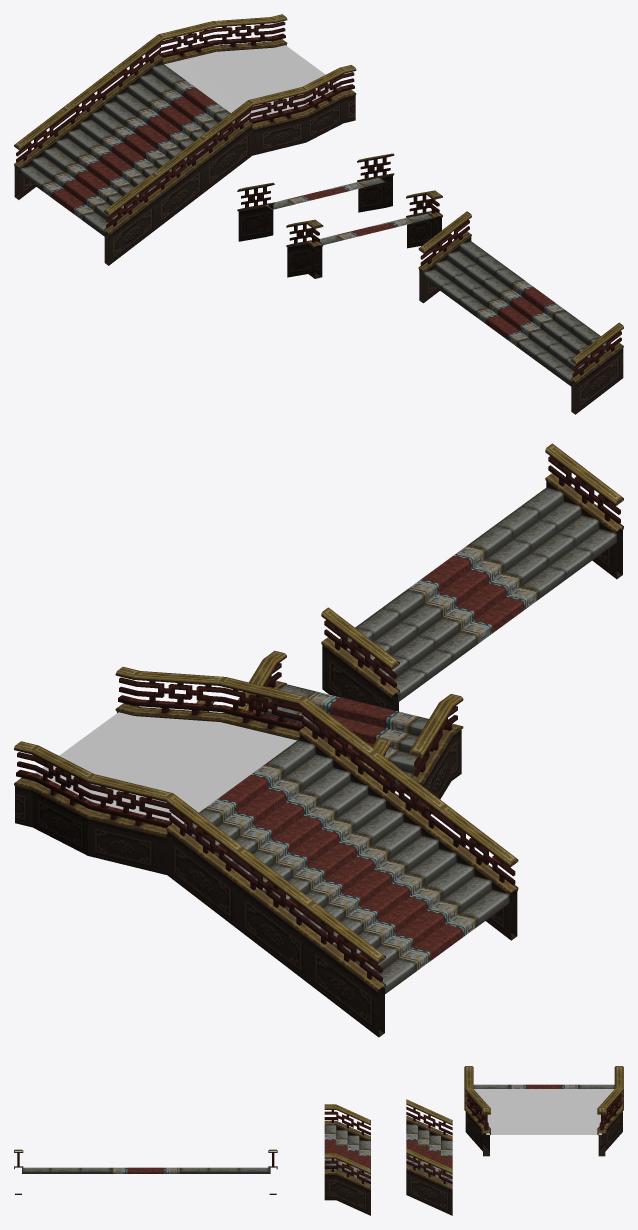
Rendered from EnvMdrMD_Desert_Castle_A_Stairs_A_End.FBX.
3 views of the same model, one above another, from view 1: azimuth 30°, elevation 25°; view 2: azimuth 150°, elevation 25°; view 3: azimuth 270°, elevation 25° (orthographic). The views are drawn at different scales.
Visible parts, largest first — view 1: EnvMdrMD_Desert_Castle_A_Stairs_A_Landing, EnvMdrMD_Desert_Castle_A_Stairs_A_Limited_A, EnvMdrMD_Desert_Castle_A_Stairs_A_End, EnvMdrMD_Desert_Castle_A_Stairs_A_Loop; view 2: EnvMdrMD_Desert_Castle_A_Stairs_A_Landing, EnvMdrMD_Desert_Castle_A_Stairs_A_Limited_A, EnvMdrMD_Desert_Castle_A_Stairs_A_End; view 3: EnvMdrMD_Desert_Castle_A_Stairs_A_Landing, EnvMdrMD_Desert_Castle_A_Stairs_A_Loop, EnvMdrMD_Desert_Castle_A_Stairs_A_End, EnvMdrMD_Desert_Castle_A_Stairs_A_Limited_A.
Part boxes in pixels (bbox=[...]): EnvMdrMD_Desert_Castle_A_Stairs_A_Landing: bbox=[14, 14, 356, 265]; EnvMdrMD_Desert_Castle_A_Stairs_A_Limited_A: bbox=[418, 211, 623, 414]; EnvMdrMD_Desert_Castle_A_Stairs_A_End: bbox=[286, 190, 442, 278]; EnvMdrMD_Desert_Castle_A_Stairs_A_Loop: bbox=[237, 153, 394, 241]; EnvMdrMD_Desert_Castle_A_Stairs_A_Landing: bbox=[14, 666, 518, 1037]; EnvMdrMD_Desert_Castle_A_Stairs_A_Limited_A: bbox=[321, 443, 623, 711]; EnvMdrMD_Desert_Castle_A_Stairs_A_End: bbox=[238, 650, 463, 815]; EnvMdrMD_Desert_Castle_A_Stairs_A_Landing: bbox=[464, 1066, 623, 1156]; EnvMdrMD_Desert_Castle_A_Stairs_A_Loop: bbox=[406, 1099, 452, 1215]; EnvMdrMD_Desert_Castle_A_Stairs_A_End: bbox=[324, 1104, 370, 1215]; EnvMdrMD_Desert_Castle_A_Stairs_A_Limited_A: bbox=[14, 1149, 277, 1194].
Size of the model in its own units: 1075 by 510 by 2637.
